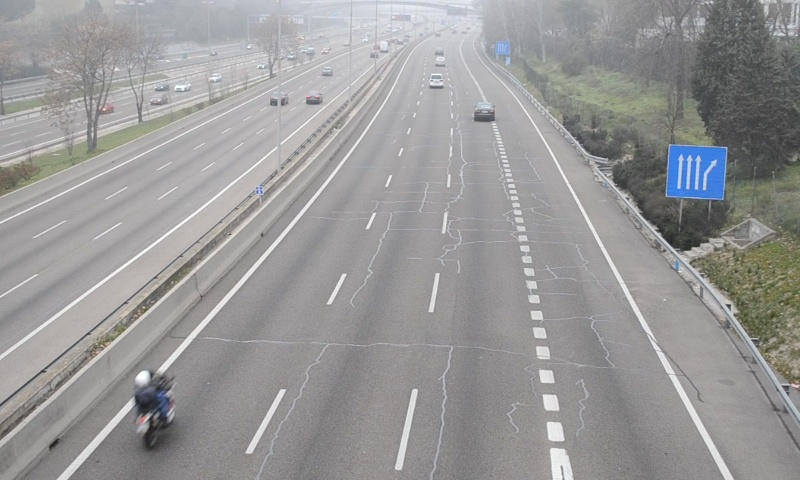car: (473, 101, 495, 122), (428, 73, 445, 89)
motorcycle: (132, 370, 174, 447)
